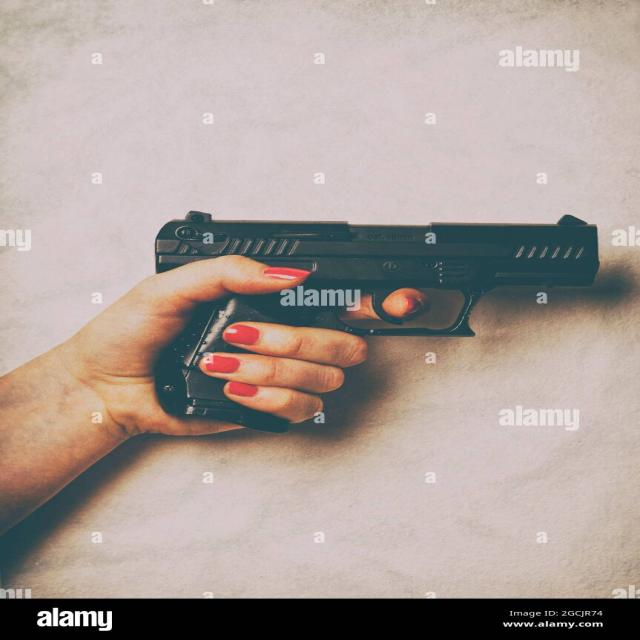HandGun: (153, 211, 600, 434)
